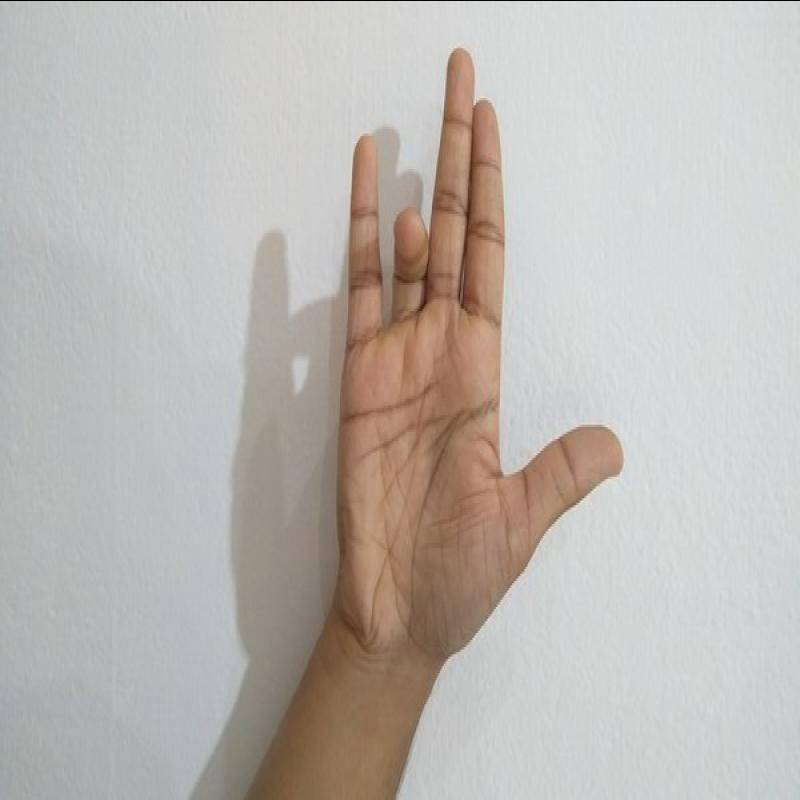Pathaaka: (325, 28, 633, 676)
